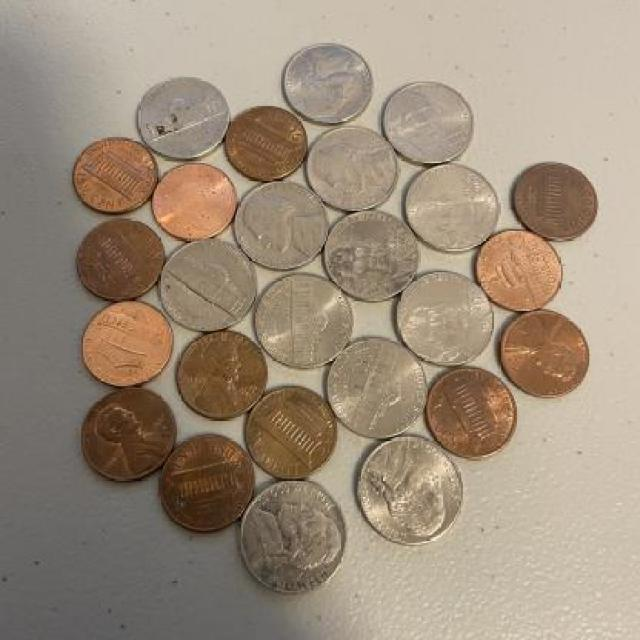Nickel: (235, 479, 351, 598), (357, 432, 465, 543), (323, 336, 429, 442), (250, 270, 358, 372), (158, 237, 258, 337), (394, 268, 497, 364), (323, 208, 422, 304), (403, 163, 503, 254), (234, 178, 326, 274), (381, 77, 477, 166), (303, 123, 400, 211), (135, 76, 234, 162), (278, 40, 376, 122)
Penny: (154, 434, 258, 536), (80, 384, 177, 486), (245, 386, 338, 488), (77, 298, 177, 392), (496, 309, 594, 400), (426, 365, 517, 463), (175, 328, 271, 418), (72, 217, 166, 305), (152, 158, 242, 244), (472, 230, 560, 316), (71, 136, 157, 222), (222, 105, 312, 183), (512, 162, 600, 240)
